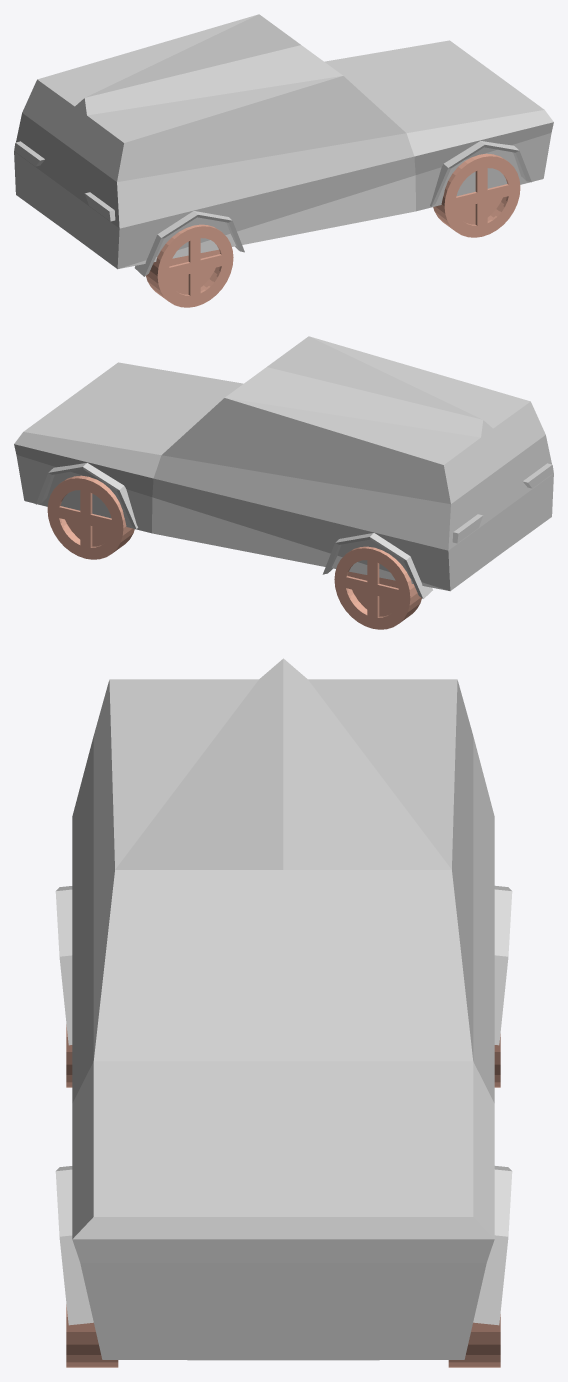
File: TestCarV7.gltf
3 views of the same model, one above another, from view 1: azimuth 30°, elevation 25°; view 2: azimuth 150°, elevation 25°; view 3: azimuth 270°, elevation 25° (orthographic). The views are drawn at different scales.
Visible parts, largest first — view 1: body, wheel_RR, wheel_FR, lights_rear; view 2: body, wheel_RL, wheel_FL, lights_rear; view 3: body, wheel_FR, wheel_FL.
Part boxes in pixels (bbox=[...]): body: bbox=[14, 14, 553, 276]; wheel_RR: bbox=[146, 224, 233, 307]; wheel_FR: bbox=[433, 153, 520, 237]; lights_rear: bbox=[14, 141, 115, 221]; body: bbox=[14, 336, 553, 598]; wheel_RL: bbox=[334, 546, 421, 629]; wheel_FL: bbox=[47, 475, 134, 559]; lights_rear: bbox=[452, 463, 553, 543]; body: bbox=[55, 658, 512, 1360]; wheel_FR: bbox=[66, 1304, 118, 1367]; wheel_FL: bbox=[448, 1314, 500, 1367].
Size of the model in its own units: 3.86 by 1.54 by 1.74.
